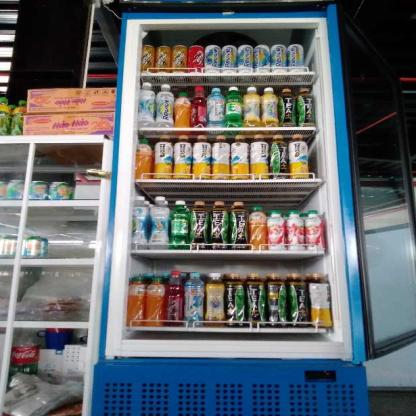7up-chai: (169, 198, 187, 249), (223, 84, 242, 126)
goodmood: (181, 272, 203, 326), (207, 87, 224, 126)
olong-tea: (243, 272, 266, 326), (265, 273, 288, 326), (287, 271, 308, 326), (187, 198, 209, 250), (224, 272, 245, 326), (207, 200, 229, 249), (230, 200, 248, 250), (269, 134, 288, 178), (296, 87, 316, 125), (277, 87, 296, 126)
olong-teaplus: (308, 272, 333, 327), (228, 134, 250, 182), (171, 134, 193, 180), (152, 133, 173, 181), (288, 133, 308, 181), (210, 134, 228, 180), (250, 134, 268, 180), (192, 133, 210, 177)
revive-chanhmuoi-chai: (203, 272, 224, 330), (259, 87, 279, 128), (243, 86, 260, 126)
revive-white: (286, 43, 305, 73), (219, 44, 237, 74), (236, 44, 254, 74), (268, 43, 287, 71), (254, 43, 270, 74), (204, 44, 220, 72)
revive-white-chai: (149, 195, 168, 250), (130, 195, 149, 249), (155, 83, 173, 126), (138, 81, 154, 128)
sting-red: (188, 43, 204, 71)
sting-red-chai: (164, 269, 182, 327), (190, 85, 207, 126)
sting-yellow: (170, 44, 186, 72), (140, 44, 154, 73), (156, 45, 169, 73)
twister-cam: (125, 277, 147, 327), (145, 277, 165, 330), (247, 206, 266, 251), (136, 139, 152, 179), (173, 91, 191, 126)
twister-dau: (303, 209, 325, 252), (284, 209, 304, 252), (266, 210, 286, 252)
